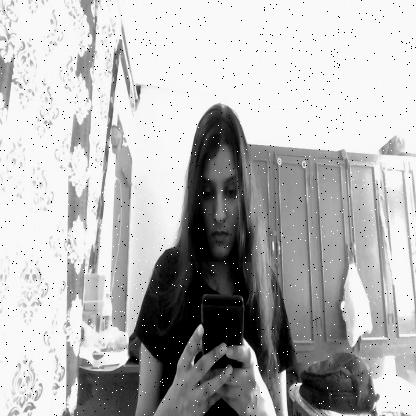Normal: (188, 104, 251, 262)
